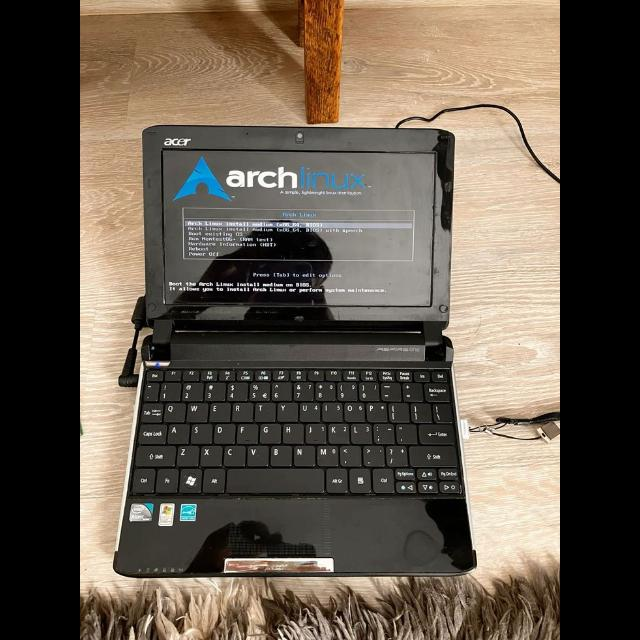laptop: (404, 531, 439, 565)
